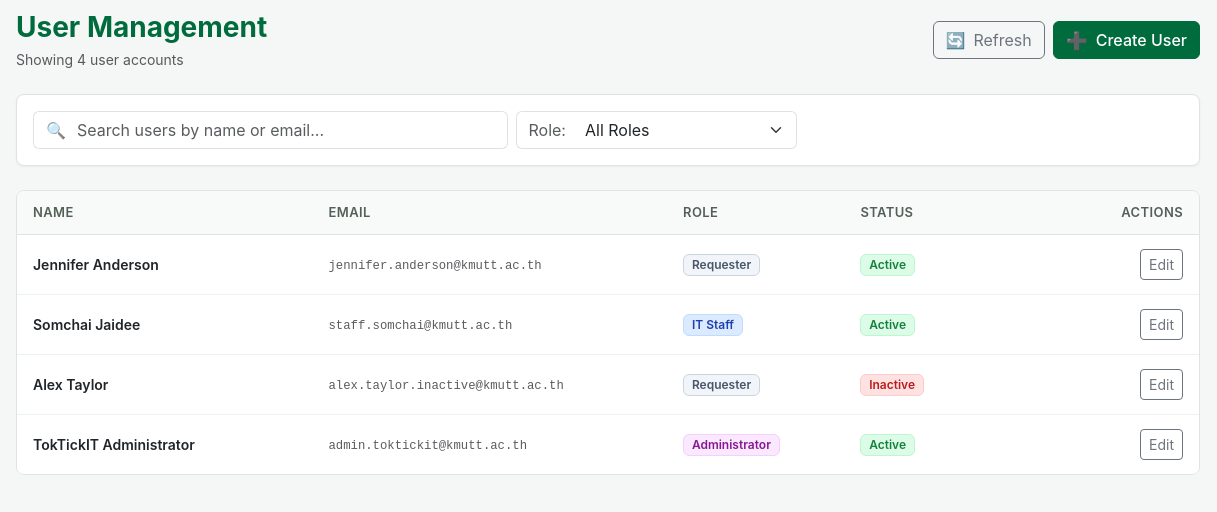
Administrator User Management Component (UI-09, UI-10) › UI-09: Screen rendering, filtering, creation and error states › renders empty results message with Clear Filters button when query matches 0 users
Expected: the text "Jennifer Anderson" is shown, [33,256,159,273]
Type "NonExistentUser999" into the field with test id "search-user-input" at (292, 130), box [77,111,508,149]
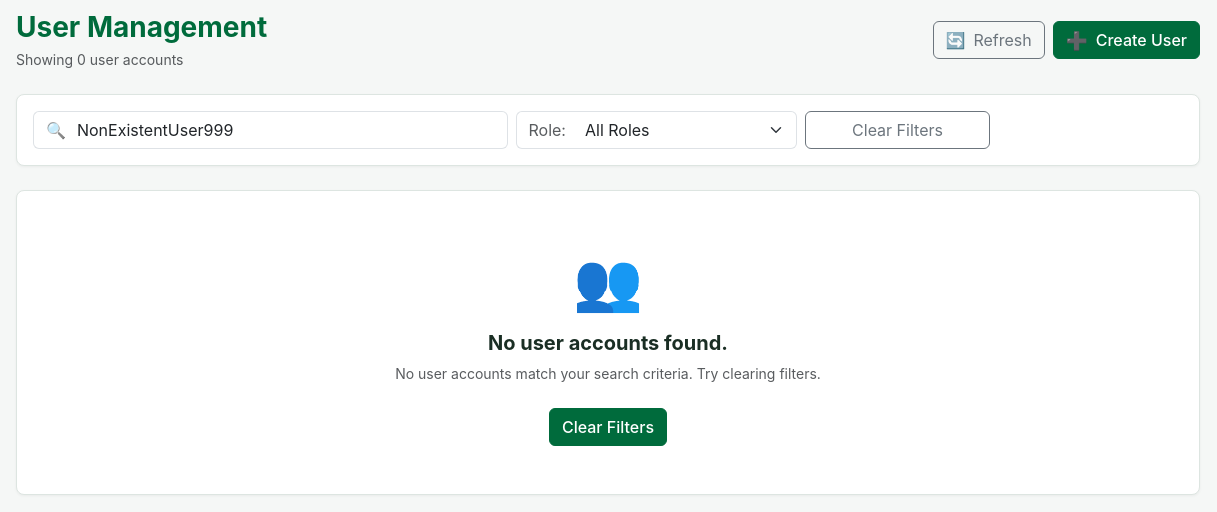
Expected: the element with test id "no-results-state" is shown, [16,190,1200,495]
Expected: the text "No user accounts match your search criteria. Try clearing filters." is shown, [378,363,838,384]
Click Clear Filters
Click the button with test id "no-results-clear-btn" at (608, 427), box [549,408,667,446]
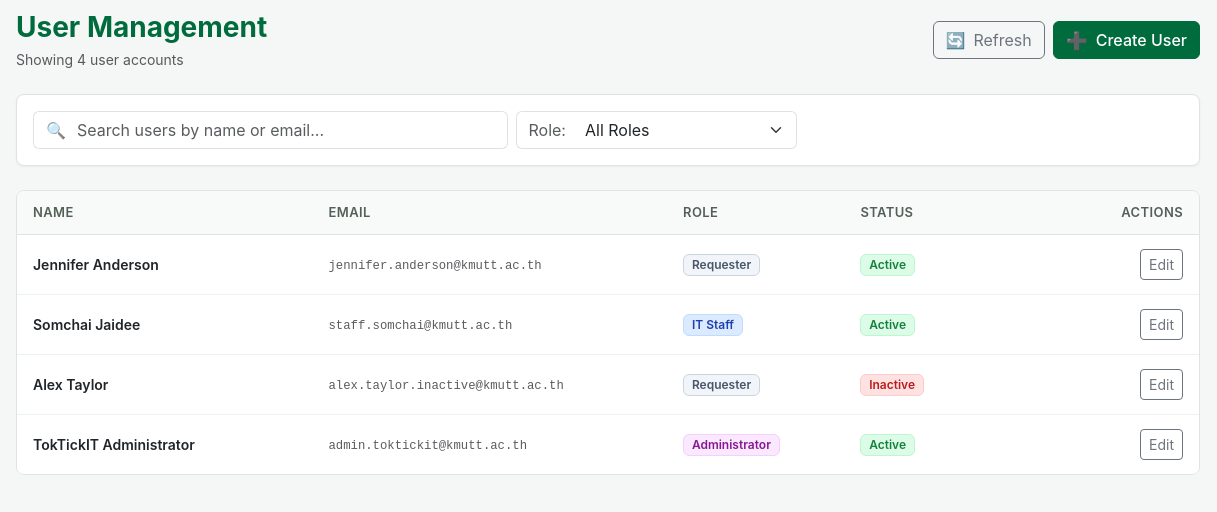
Expected: the text "Jennifer Anderson" is shown, [33,256,159,273]
